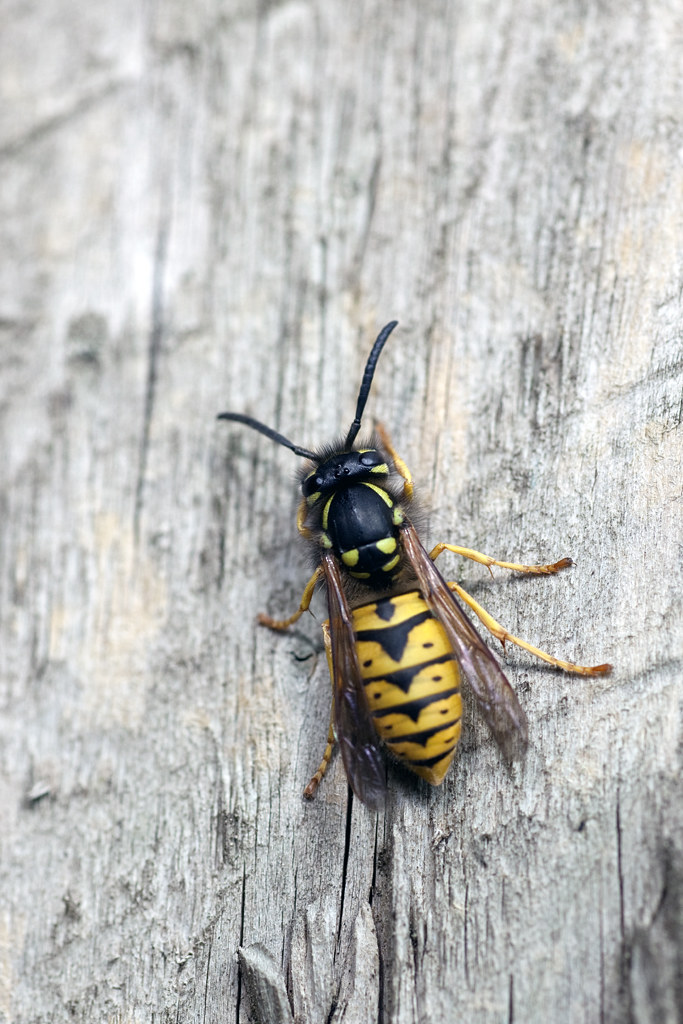chax: (206, 299, 631, 842)
